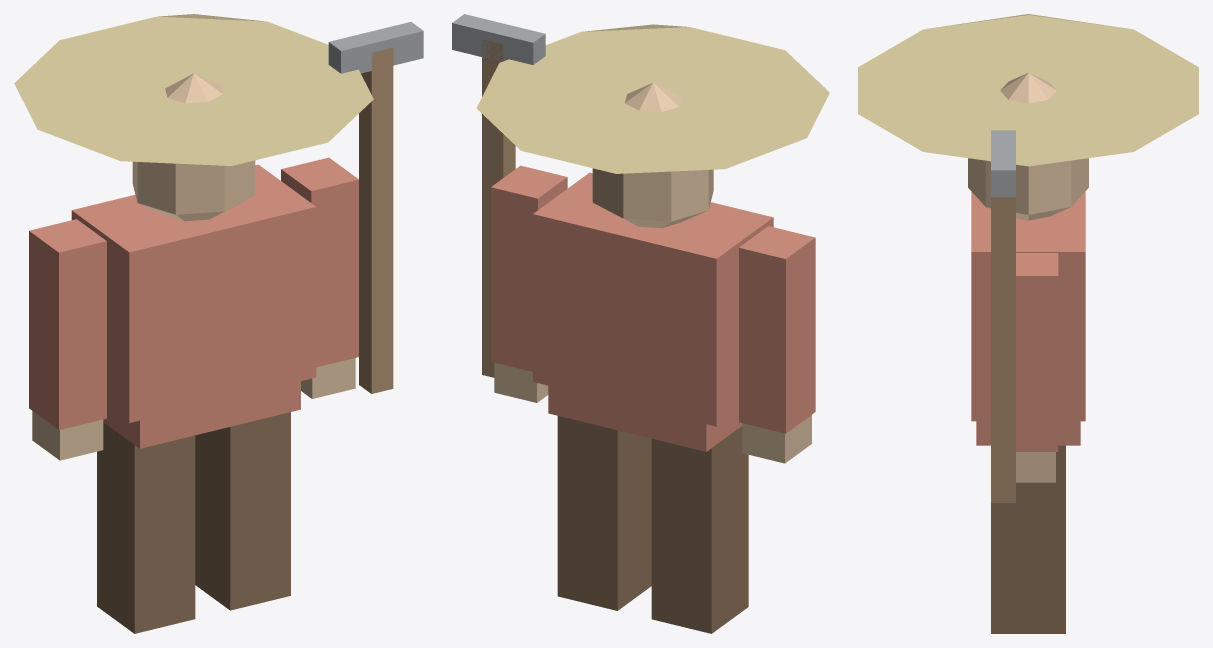
The model's file is npc_petani_caping.glb.
The picture shows the model from 3 angles, left to right: view 1: azimuth 30°, elevation 25°; view 2: azimuth 150°, elevation 25°; view 3: azimuth 270°, elevation 25°; orthographic projection.
Visible parts, largest first — view 1: npc_petani_caping; view 2: npc_petani_caping; view 3: npc_petani_caping.
Part boxes in pixels (x1,y1,x2,y2): npc_petani_caping: (14,14,423,633); npc_petani_caping: (452,14,829,633); npc_petani_caping: (858,14,1198,633).
Size of the model in its own units: 1.69 by 2.58 by 1.37.
